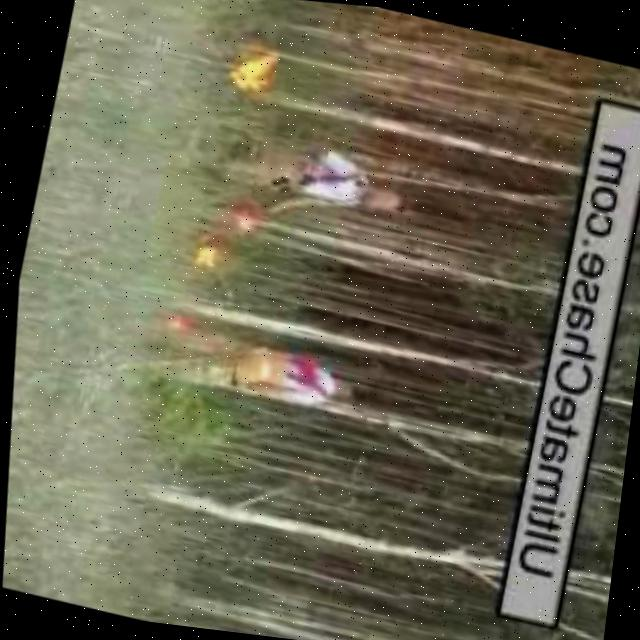fire: (221, 32, 280, 96), (218, 198, 261, 242), (181, 233, 222, 271)
